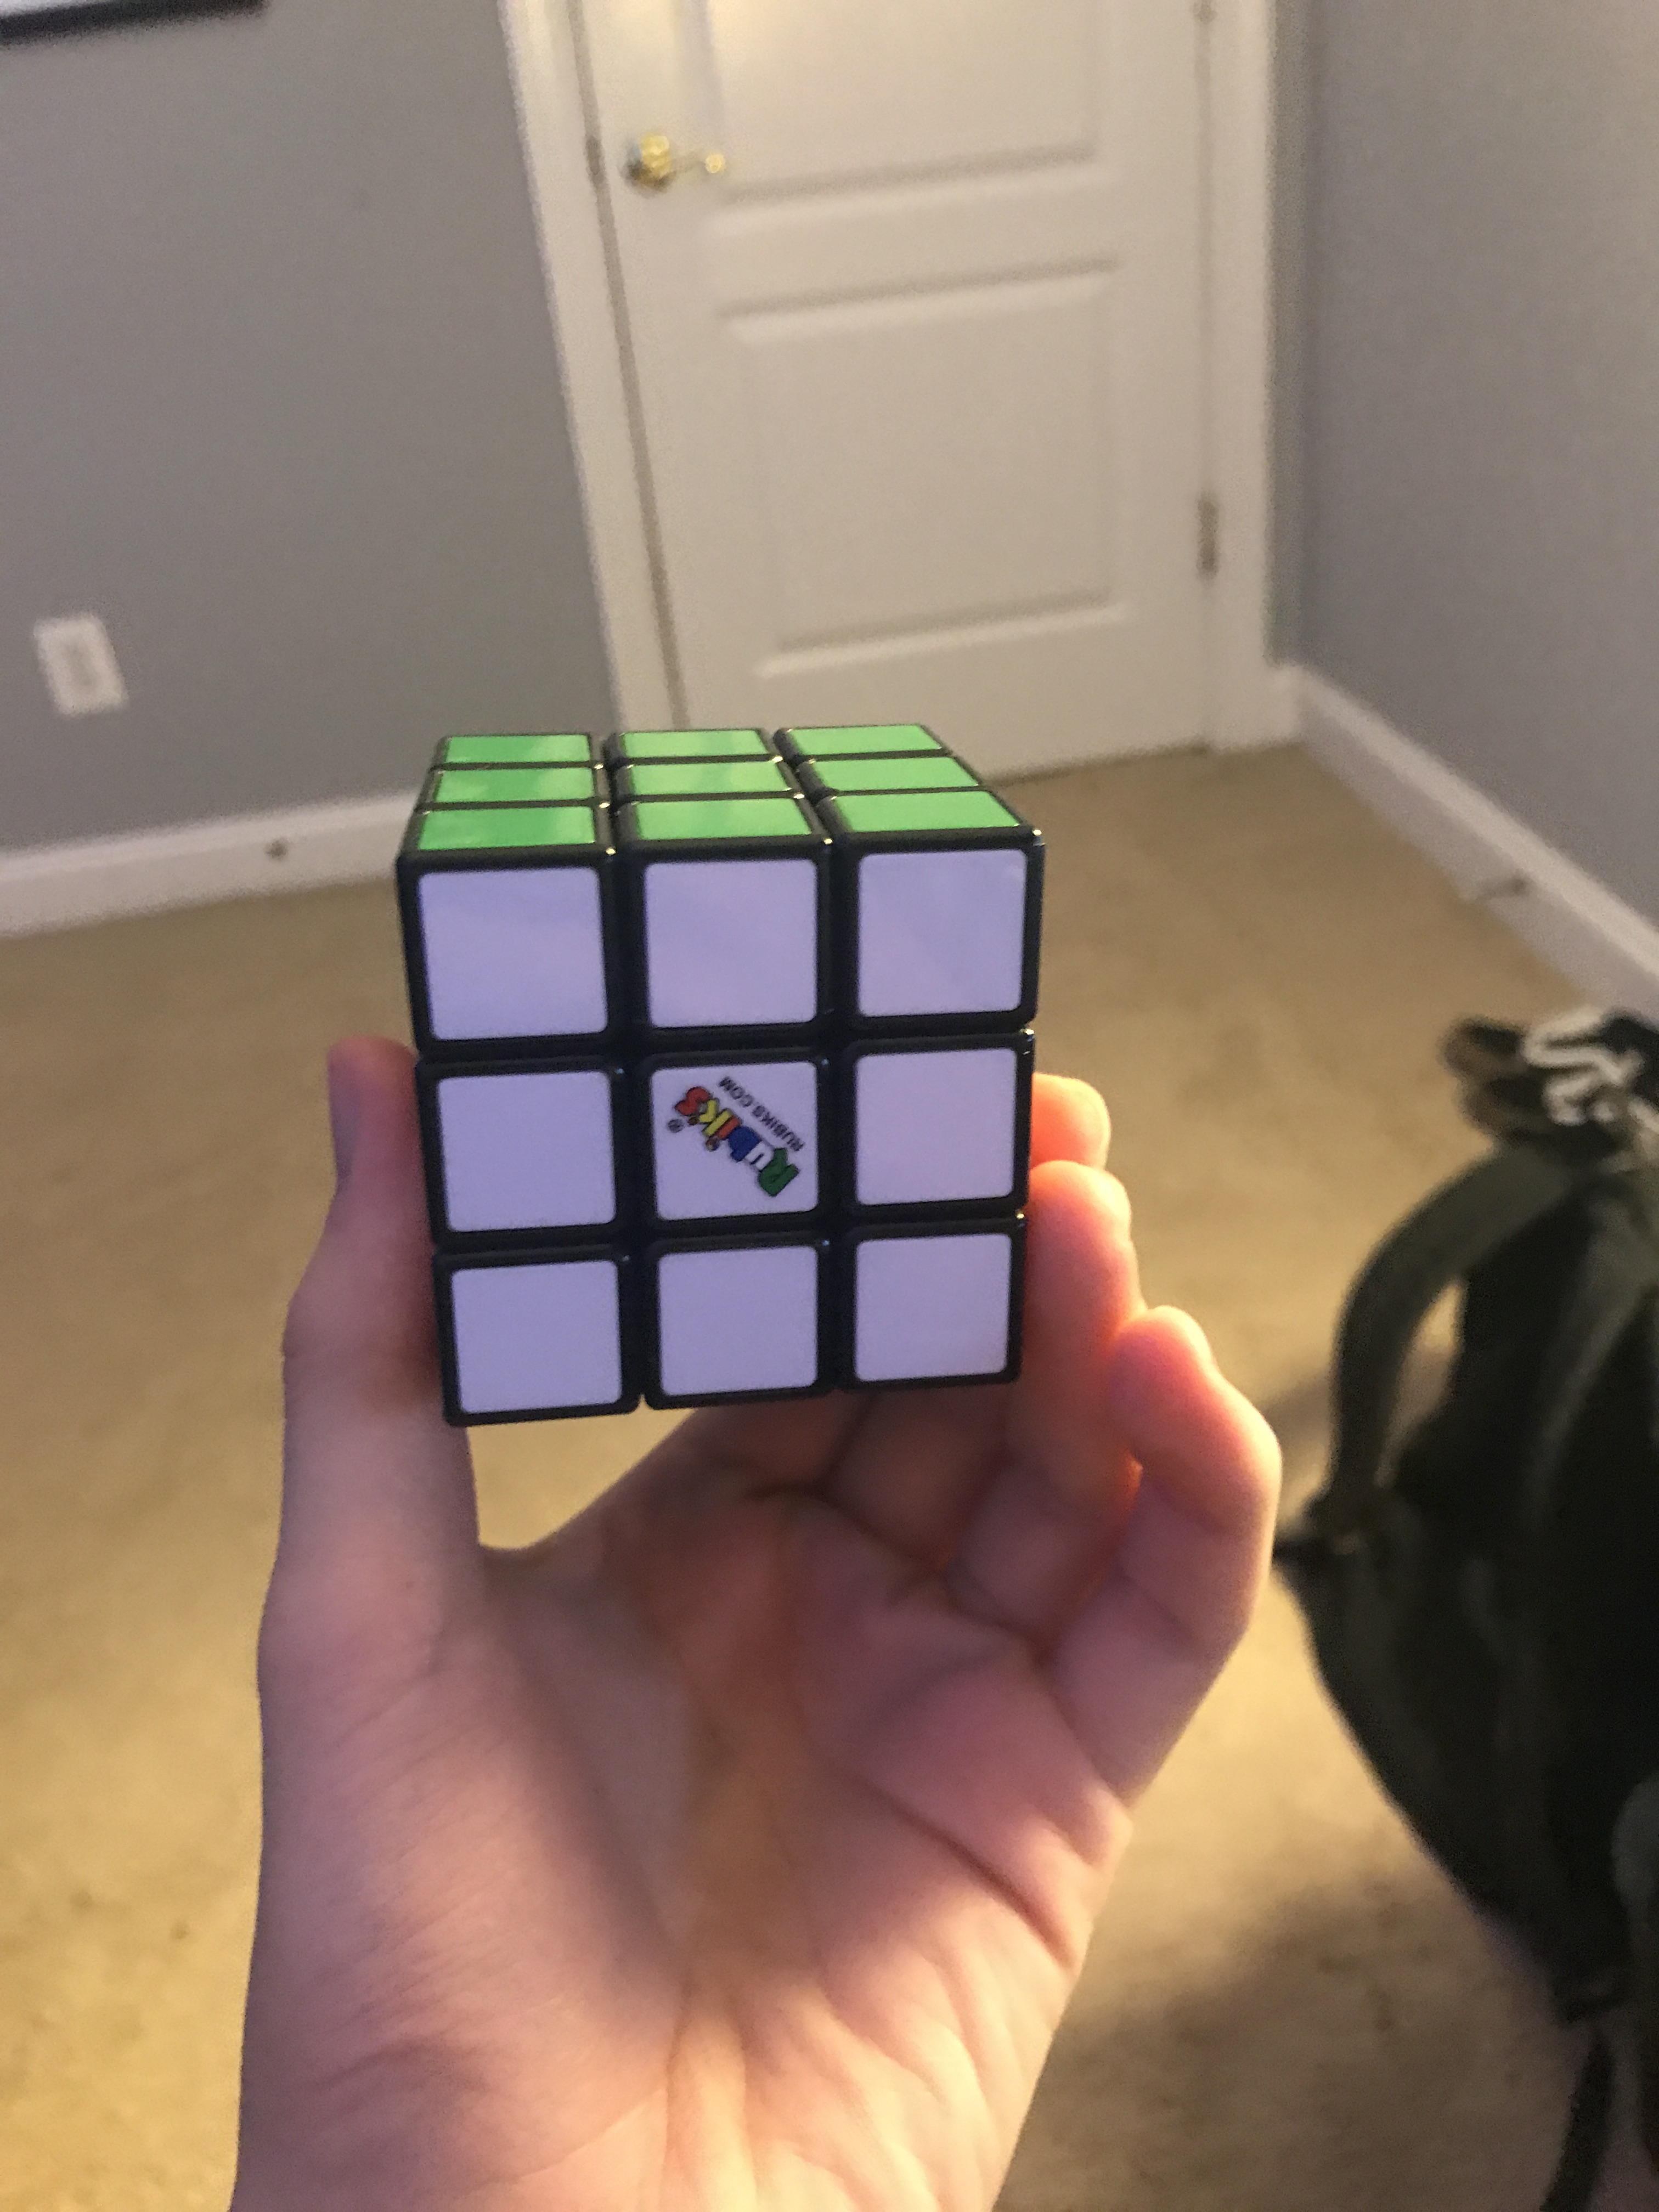rubiks: (396, 732, 1094, 1423)
